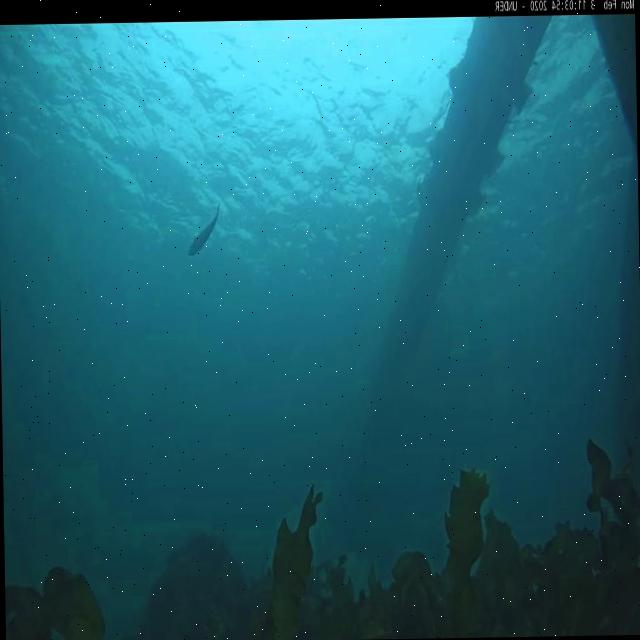fish: (185, 206, 222, 257)
